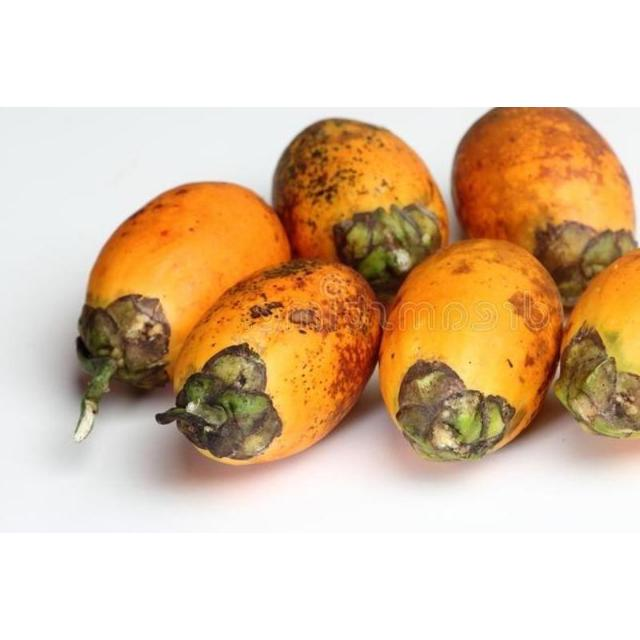good: (77, 181, 294, 436), (155, 259, 386, 469), (377, 239, 569, 465), (451, 107, 639, 311), (272, 117, 451, 306), (556, 249, 639, 440)
